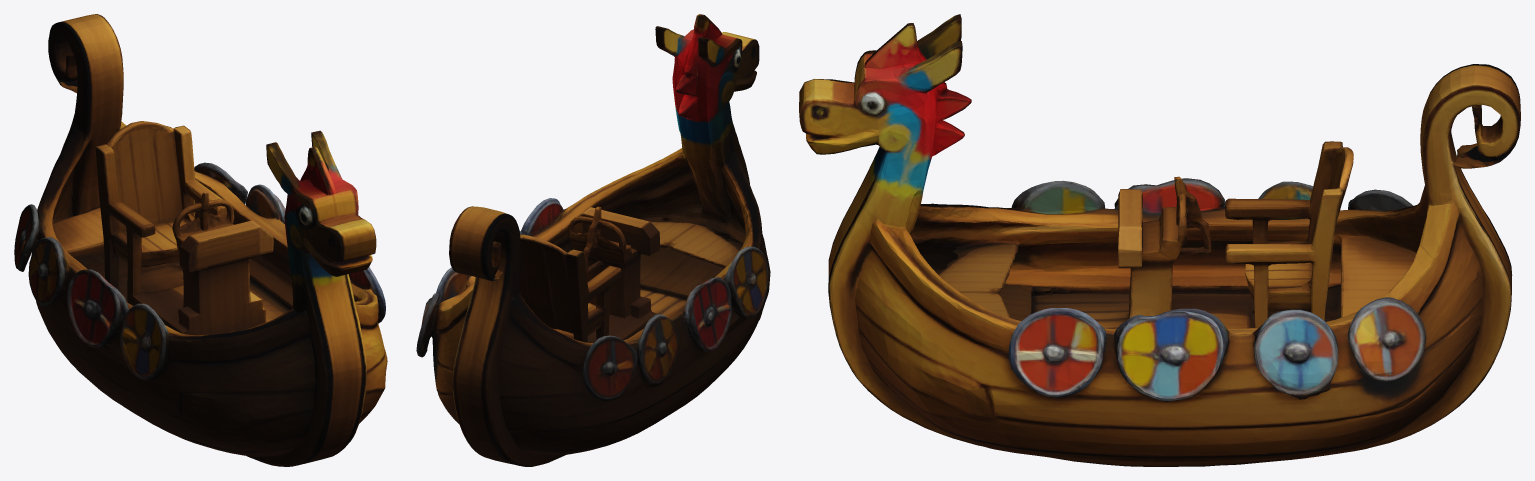
The model's file is viking-boat.glb.
3 renders of one model, left to right at view 1: azimuth 30°, elevation 25°; view 2: azimuth 150°, elevation 25°; view 3: azimuth 270°, elevation 25°, orthographic. The views are drawn at different scales.
Visible parts, largest first — view 1: world; view 2: world; view 3: world.
Boxes of the visible parts, x1,y1,x2,y2 form: world: [14, 14, 387, 466]; world: [416, 14, 770, 466]; world: [799, 14, 1520, 466].
Bounding box in the file's own units: 0.4862 × 0.6609 × 0.9997.
1 material, 1 textured.
